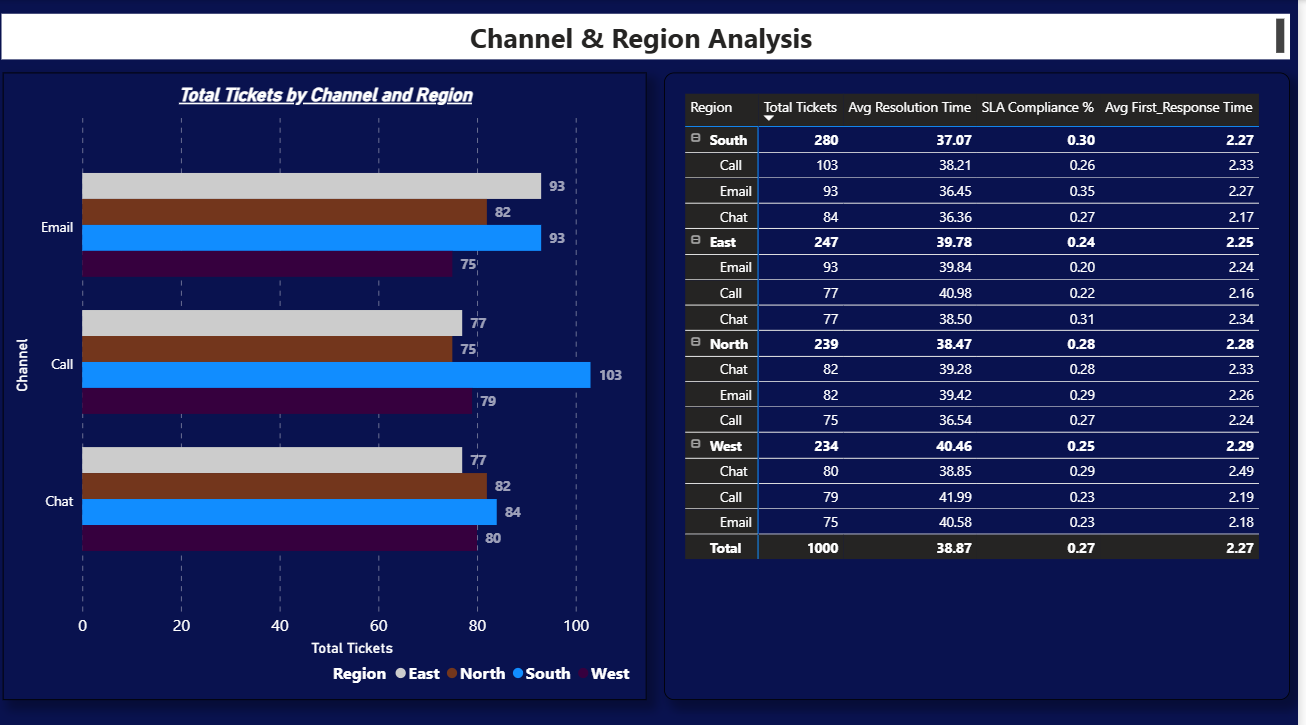

The dashboard page shown, as its layout file describes it:
{"tool":"powerbi","page":{"name":"Channel & Region Analysis","canvas":[1280,720],"ordinal":3},"visuals":[{"type":"textbox","box":[7.8,13.3,1264.4,44.4],"z":0},{"type":"clusteredBarChart","fields":{"Category":["Complaints_Data.Channel"],"Series":["Complaints_Data.Region"],"Y":["Complaints_Data.Total Tickets"]},"box":[8.6,71.2,631.9,616],"z":1000},{"type":"pivotTable","fields":{"Rows":["Complaints_Data.Region","Complaints_Data.Channel"],"Values":["Complaints_Data.Total Tickets","Resolution_Data.Avg Resolution Time","Resolution_Data.SLA Compliance %","Resolution_Data.Avg First_Response Time"]},"box":[657.7,71.2,614.7,616],"z":2000}]}

Visuals, with their boxes in screenshot pixels (x1, y1, x2, y2), scaled from the page's 1280x720 canvas onto the 1306x725 screenshot:
textbox: l=8, t=13, r=1298, b=58
clusteredBarChart - Complaints_Data.Channel x Complaints_Data.Region: l=9, t=72, r=654, b=692
pivotTable - Complaints_Data.Region x Complaints_Data.Channel: l=671, t=72, r=1298, b=692
